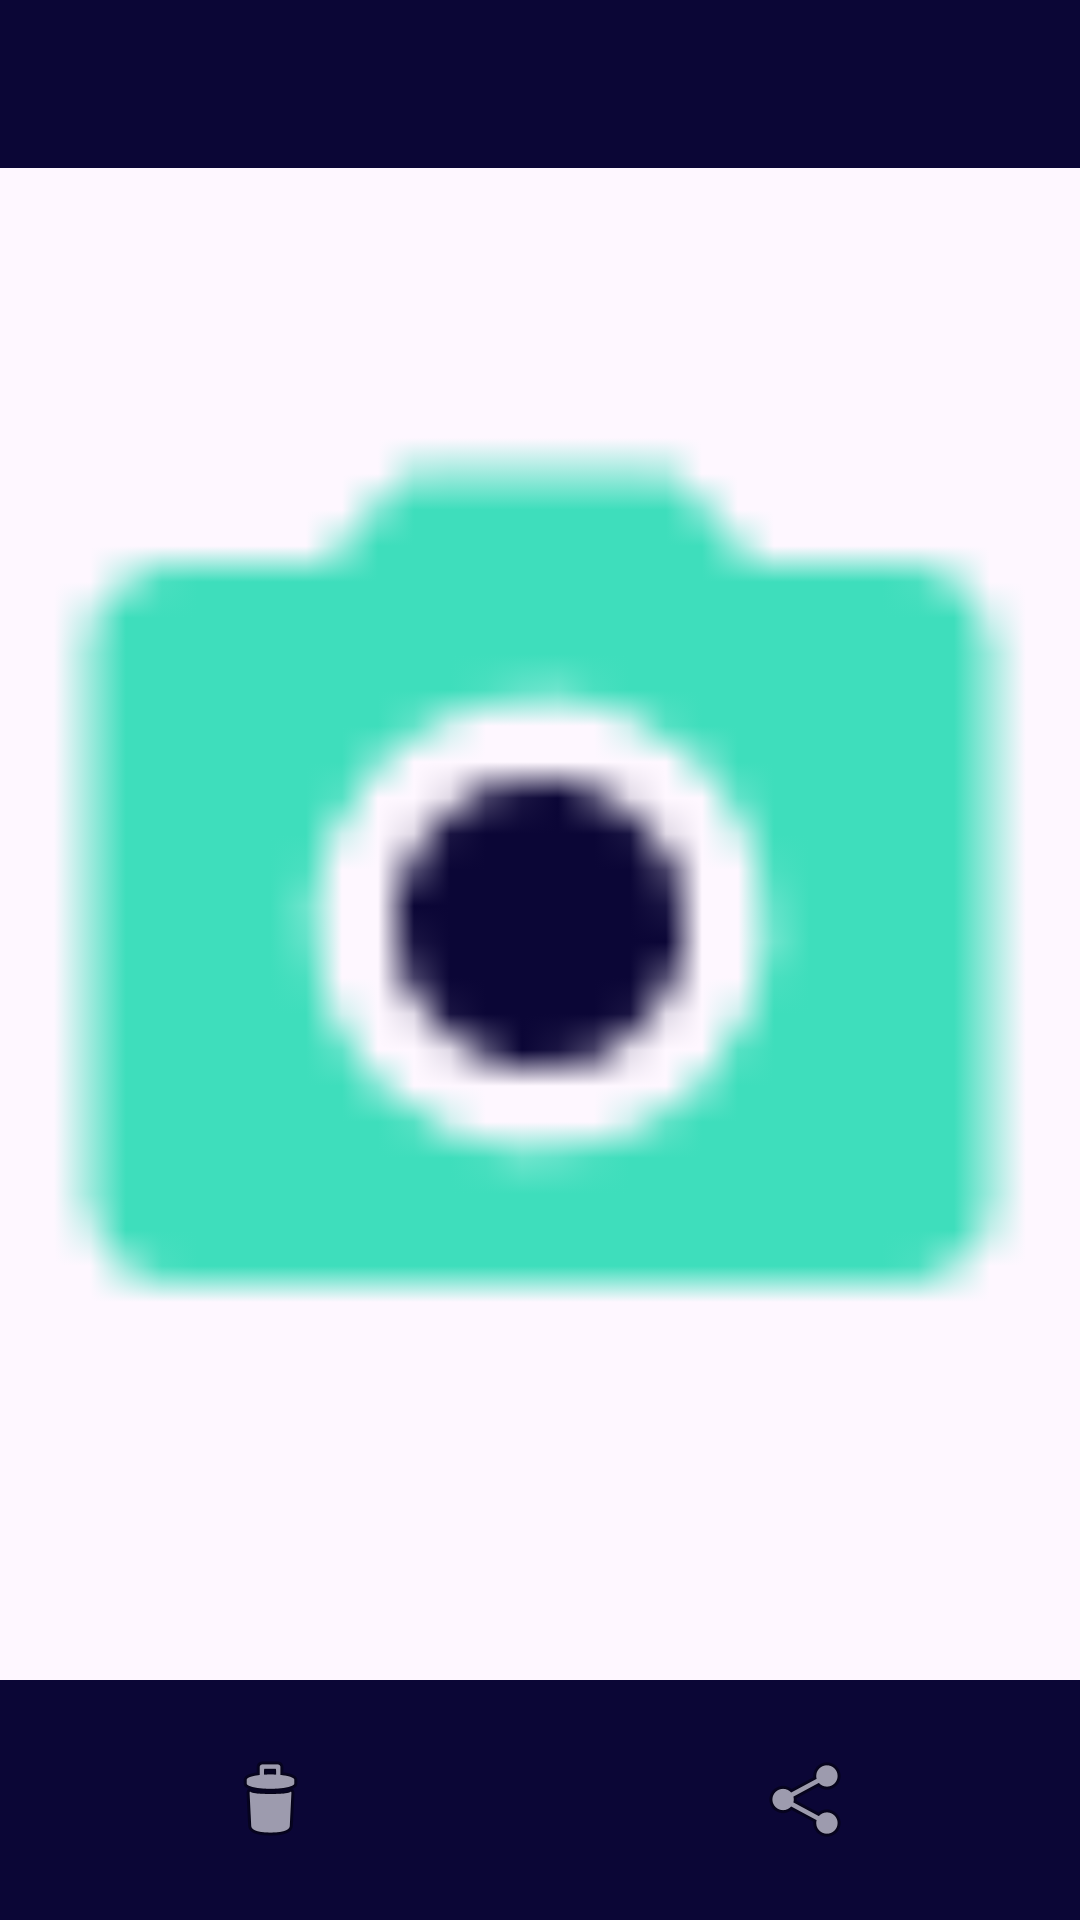

Icon click points for this 1080 × 1920 phone screenshot, format (x,y):
delete: (270,1798)
share: (805,1799)
